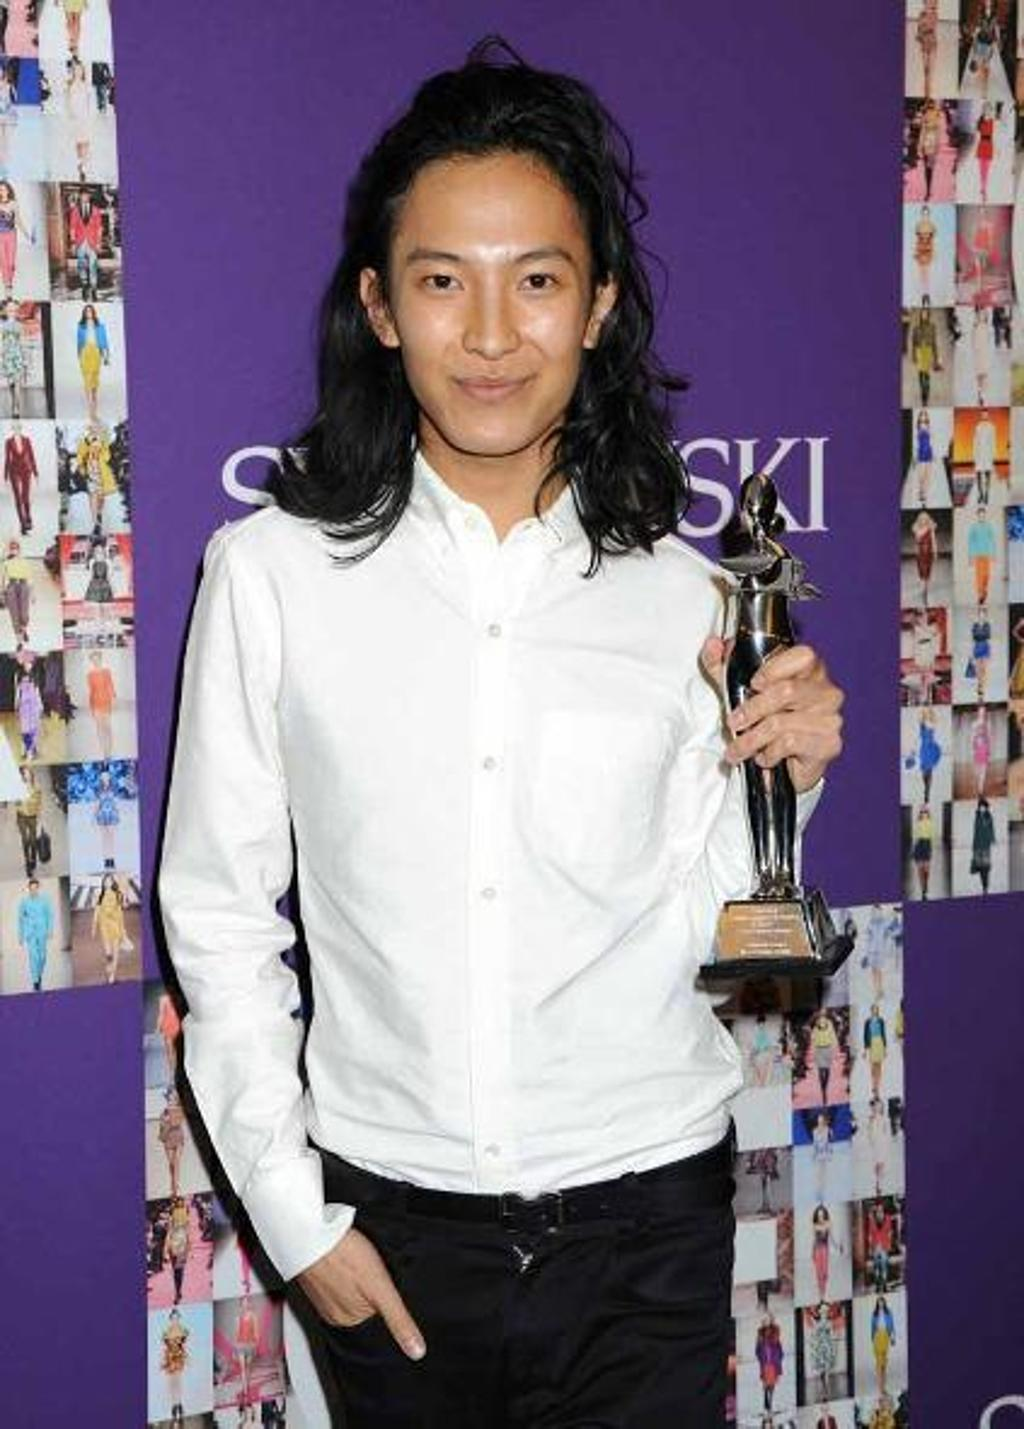face: (386, 152, 595, 451)
